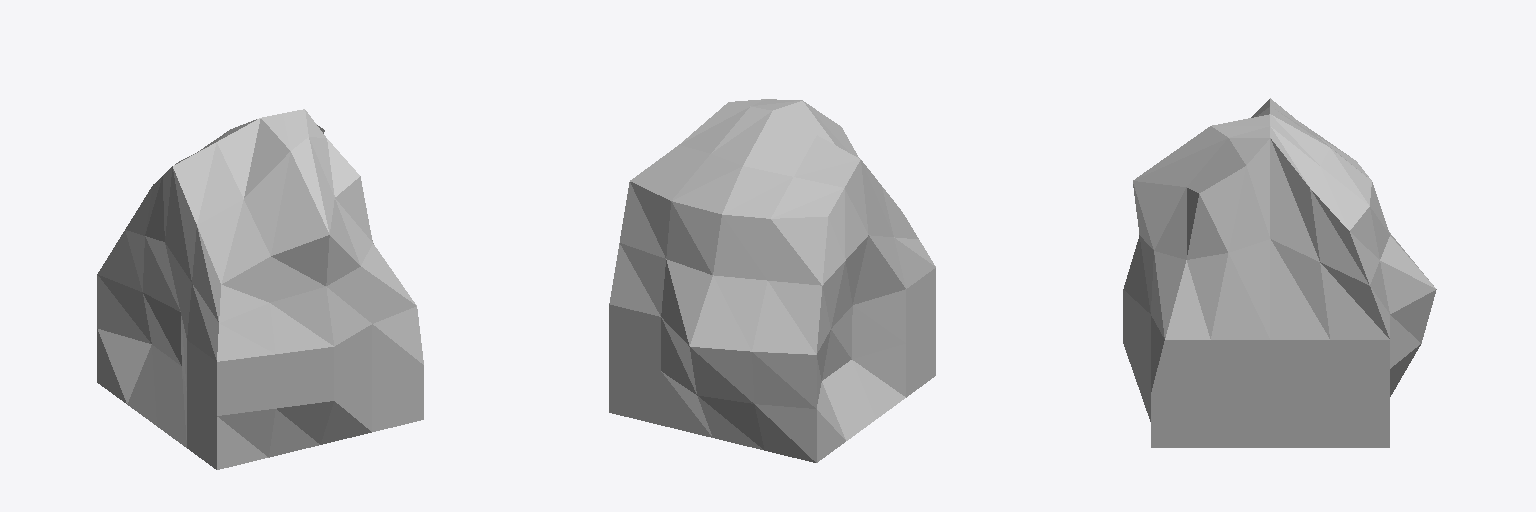
Rendered from abstr_0.obj.
3 views of the same model, side by side, from view 1: azimuth 30°, elevation 25°; view 2: azimuth 150°, elevation 25°; view 3: azimuth 270°, elevation 25° (orthographic).
Parts seen in each view (by area): view 1: experimental_obj_1; view 2: experimental_obj_1; view 3: experimental_obj_1.
Part boxes in pixels (x1,y1,x2,y2): experimental_obj_1: (97,109,423,469); experimental_obj_1: (609,99,935,462); experimental_obj_1: (1123,98,1436,447).
Bounding box in the file's own units: 0.04 × 0.0523 × 0.0524.